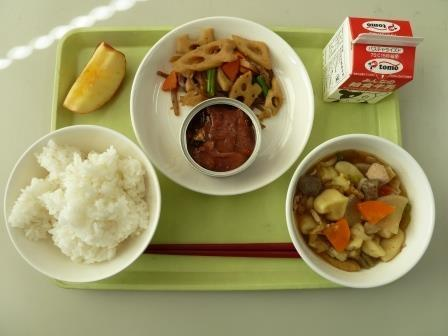Apple: (58, 31, 134, 119)
Milk: (318, 10, 424, 112)
Rice: (5, 134, 154, 276)
Soups: (291, 137, 433, 284)
cooked food based on meat: (177, 99, 268, 176)
vegetable based cooked food: (155, 30, 290, 102)
